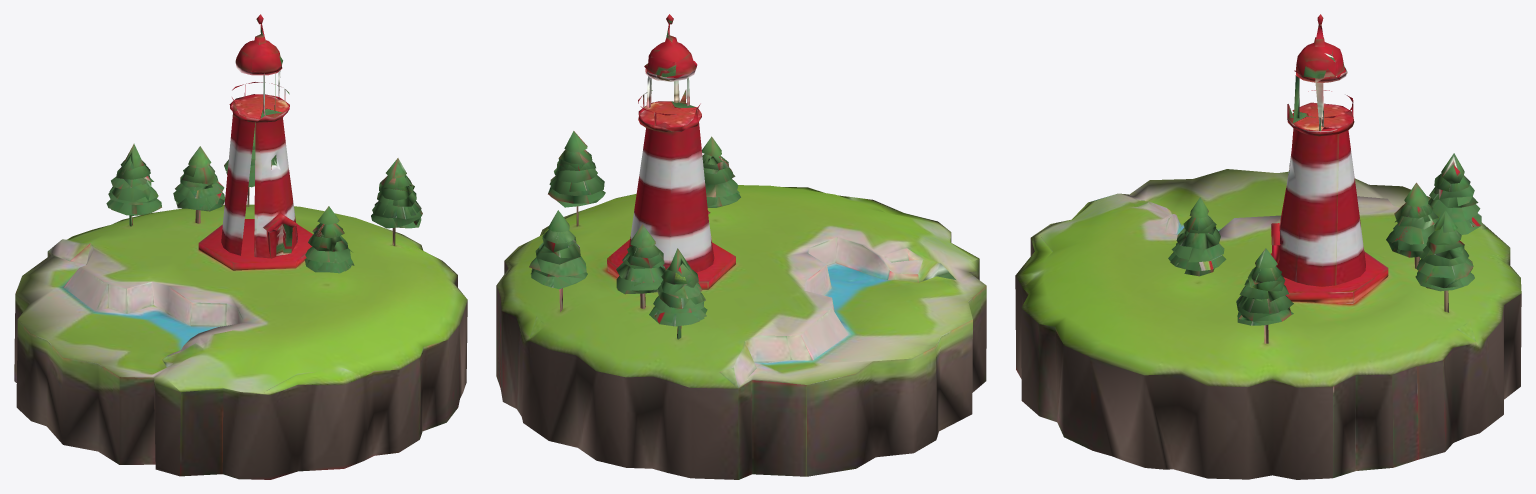
File: island.glb
The picture shows the model from 3 angles, left to right: view 1: azimuth 30°, elevation 25°; view 2: azimuth 150°, elevation 25°; view 3: azimuth 270°, elevation 25°; orthographic projection. The views are drawn at different scales.
Size of the model in its own units: 0.9526 by 0.8013 by 0.9561.
1 material, 1 textured.
